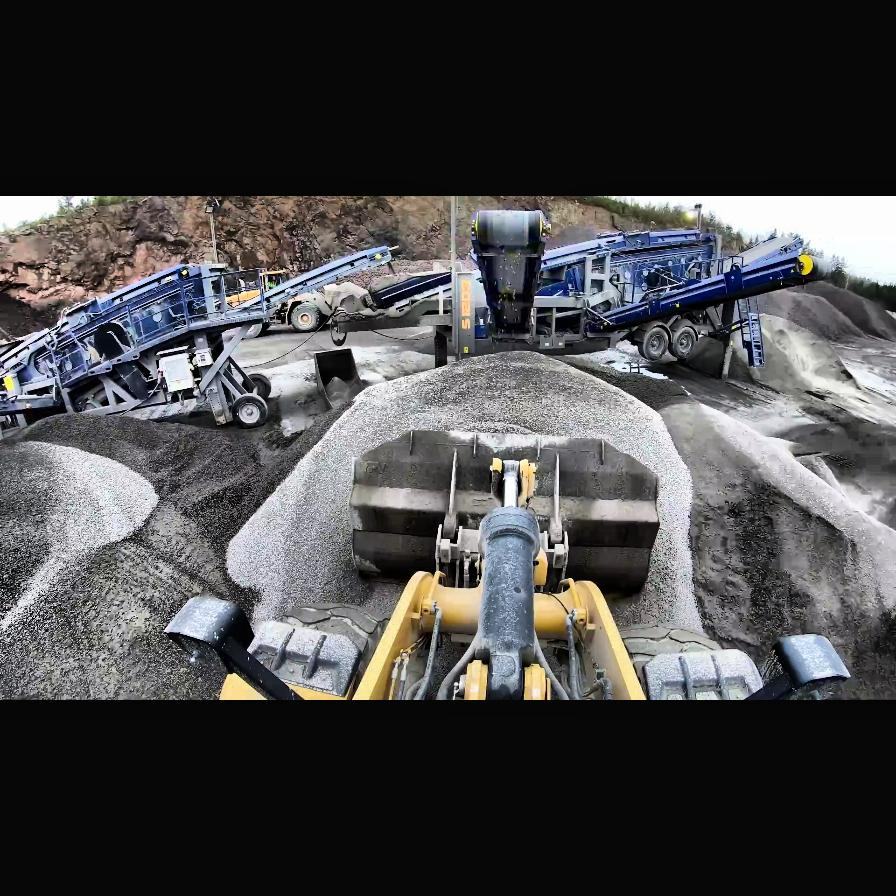anchor: (491, 456, 537, 505)
pile of gravel: (284, 335, 896, 697), (0, 199, 480, 326), (0, 450, 163, 648), (734, 304, 894, 454), (696, 299, 894, 399), (773, 279, 895, 344)
